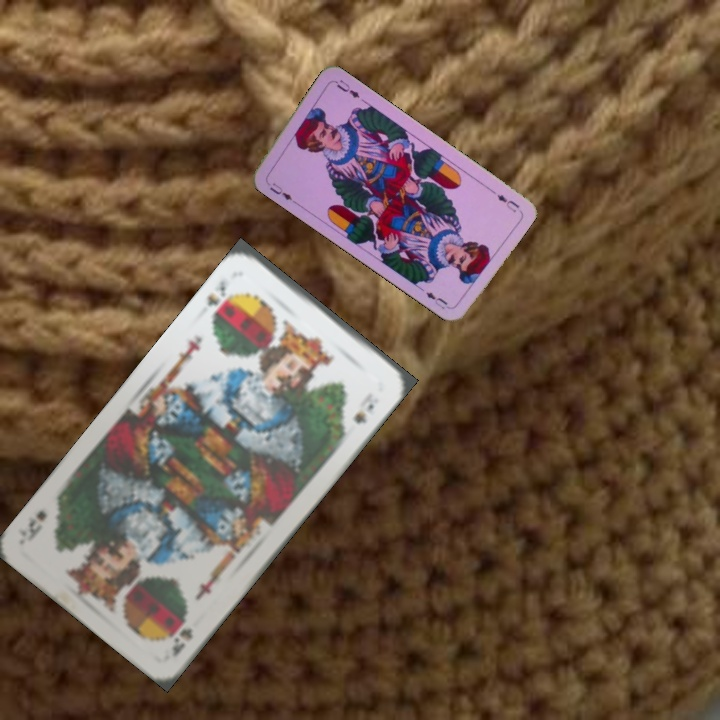EU: (262, 176, 298, 205), (493, 190, 522, 215)
SK: (203, 275, 240, 323), (166, 615, 195, 660)
